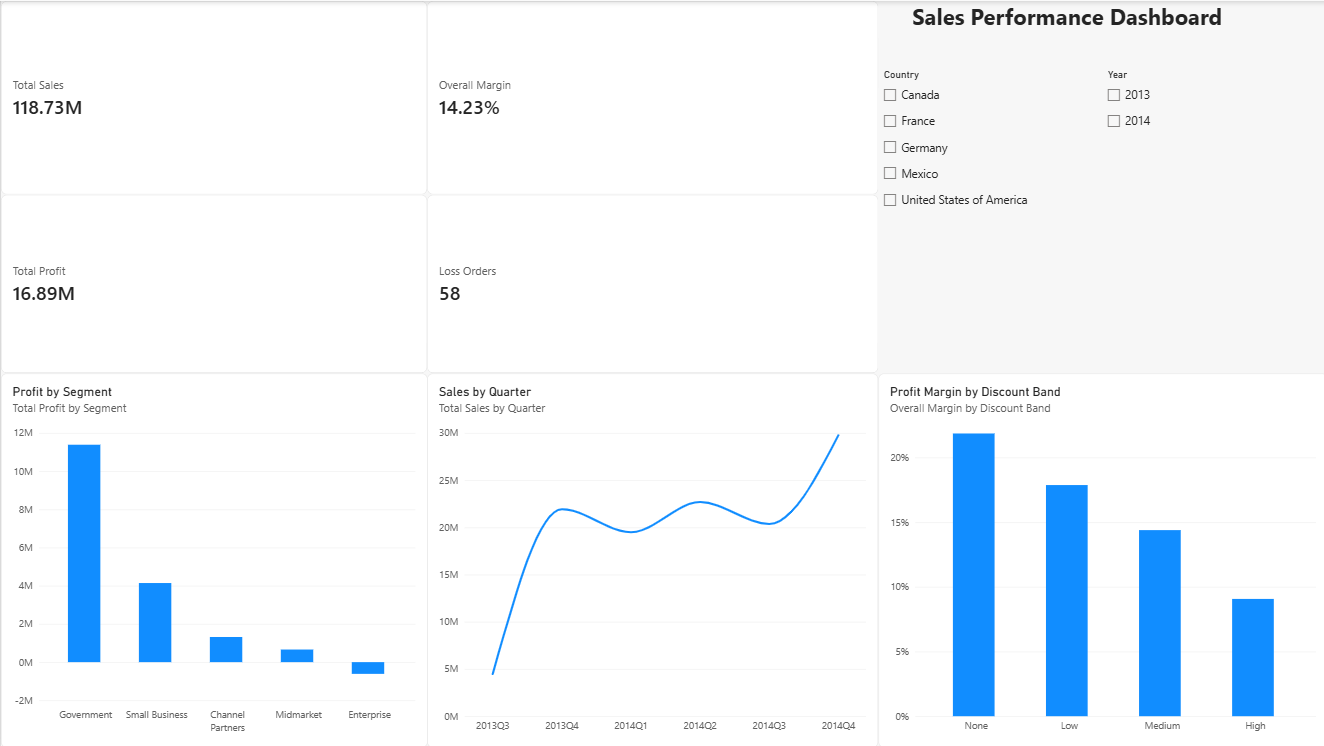

What the dashboard file says about the page in this screenshot:
{"tool":"powerbi","page":{"name":"Page 1","canvas":[1920,1080],"ordinal":0},"visuals":[{"type":"cardVisual","fields":{"Data":["cleaned_sales_data.Total Sales"]},"box":[0,0,580.4,279.9],"z":0},{"type":"cardVisual","fields":{"Data":["cleaned_sales_data.Total Profit"]},"box":[0,280.5,580.4,259.3],"z":1000},{"type":"cardVisual","fields":{"Data":["cleaned_sales_data.Overall Margin"]},"box":[580.9,0,572.2,279.9],"z":2000},{"type":"cardVisual","fields":{"Data":["cleaned_sales_data.Loss Orders"]},"box":[580.4,279.9,572.2,259.3],"z":3000},{"type":"columnChart","title":"Profit by Segment","fields":{"Category":["cleaned_sales_data.Segment"],"Y":["cleaned_sales_data.Total Profit"]},"box":[0,539.3,617.5,541.3],"z":4000},{"type":"lineChart","title":"Sales by Quarter","fields":{"Category":["cleaned_sales_data.Quarter"],"Y":["cleaned_sales_data.Total Sales"]},"box":[617.5,539.3,652.5,541.3],"z":5000},{"type":"columnChart","title":"Profit Margin by Discount Band","fields":{"Category":["cleaned_sales_data.Discount Band"],"Y":["cleaned_sales_data.Overall Margin"]},"box":[1270,539.3,650.4,541.3],"z":6000},{"type":"slicer","fields":{"Values":["cleaned_sales_data.Year"]},"box":[1538.2,97.7,381.8,441.6],"z":7000},{"type":"slicer","fields":{"Values":["cleaned_sales_data.Country"]},"box":[1152.8,97.7,385.5,425.3],"z":8000},{"type":"textbox","box":[99.5,325.7,300.4,74.2],"z":11000},{"type":"textbox","box":[0,0,1920.1,63.3],"z":11001},{"type":"textbox","box":[0,0,1816.9,97.7],"z":11002}]}

Visuals, with their boxes in screenshot pixels (x1, y1, x2, y2), scaled from the page's 1920x1080 canvas onto the 1324x746 screenshot:
cardVisual - cleaned_sales_data.Total Sales: (x1=0, y1=0, x2=400, y2=193)
cardVisual - cleaned_sales_data.Total Profit: (x1=0, y1=194, x2=400, y2=373)
cardVisual - cleaned_sales_data.Overall Margin: (x1=401, y1=0, x2=795, y2=193)
cardVisual - cleaned_sales_data.Loss Orders: (x1=400, y1=193, x2=795, y2=372)
"Profit by Segment" columnChart: (x1=0, y1=373, x2=426, y2=745)
"Sales by Quarter" lineChart: (x1=426, y1=373, x2=876, y2=745)
"Profit Margin by Discount Band" columnChart: (x1=876, y1=373, x2=1323, y2=745)
slicer - cleaned_sales_data.Year: (x1=1061, y1=67, x2=1323, y2=373)
slicer - cleaned_sales_data.Country: (x1=795, y1=67, x2=1061, y2=361)
textbox: (x1=69, y1=225, x2=276, y2=276)
textbox: (x1=0, y1=0, x2=1323, y2=44)
textbox: (x1=0, y1=0, x2=1253, y2=67)
